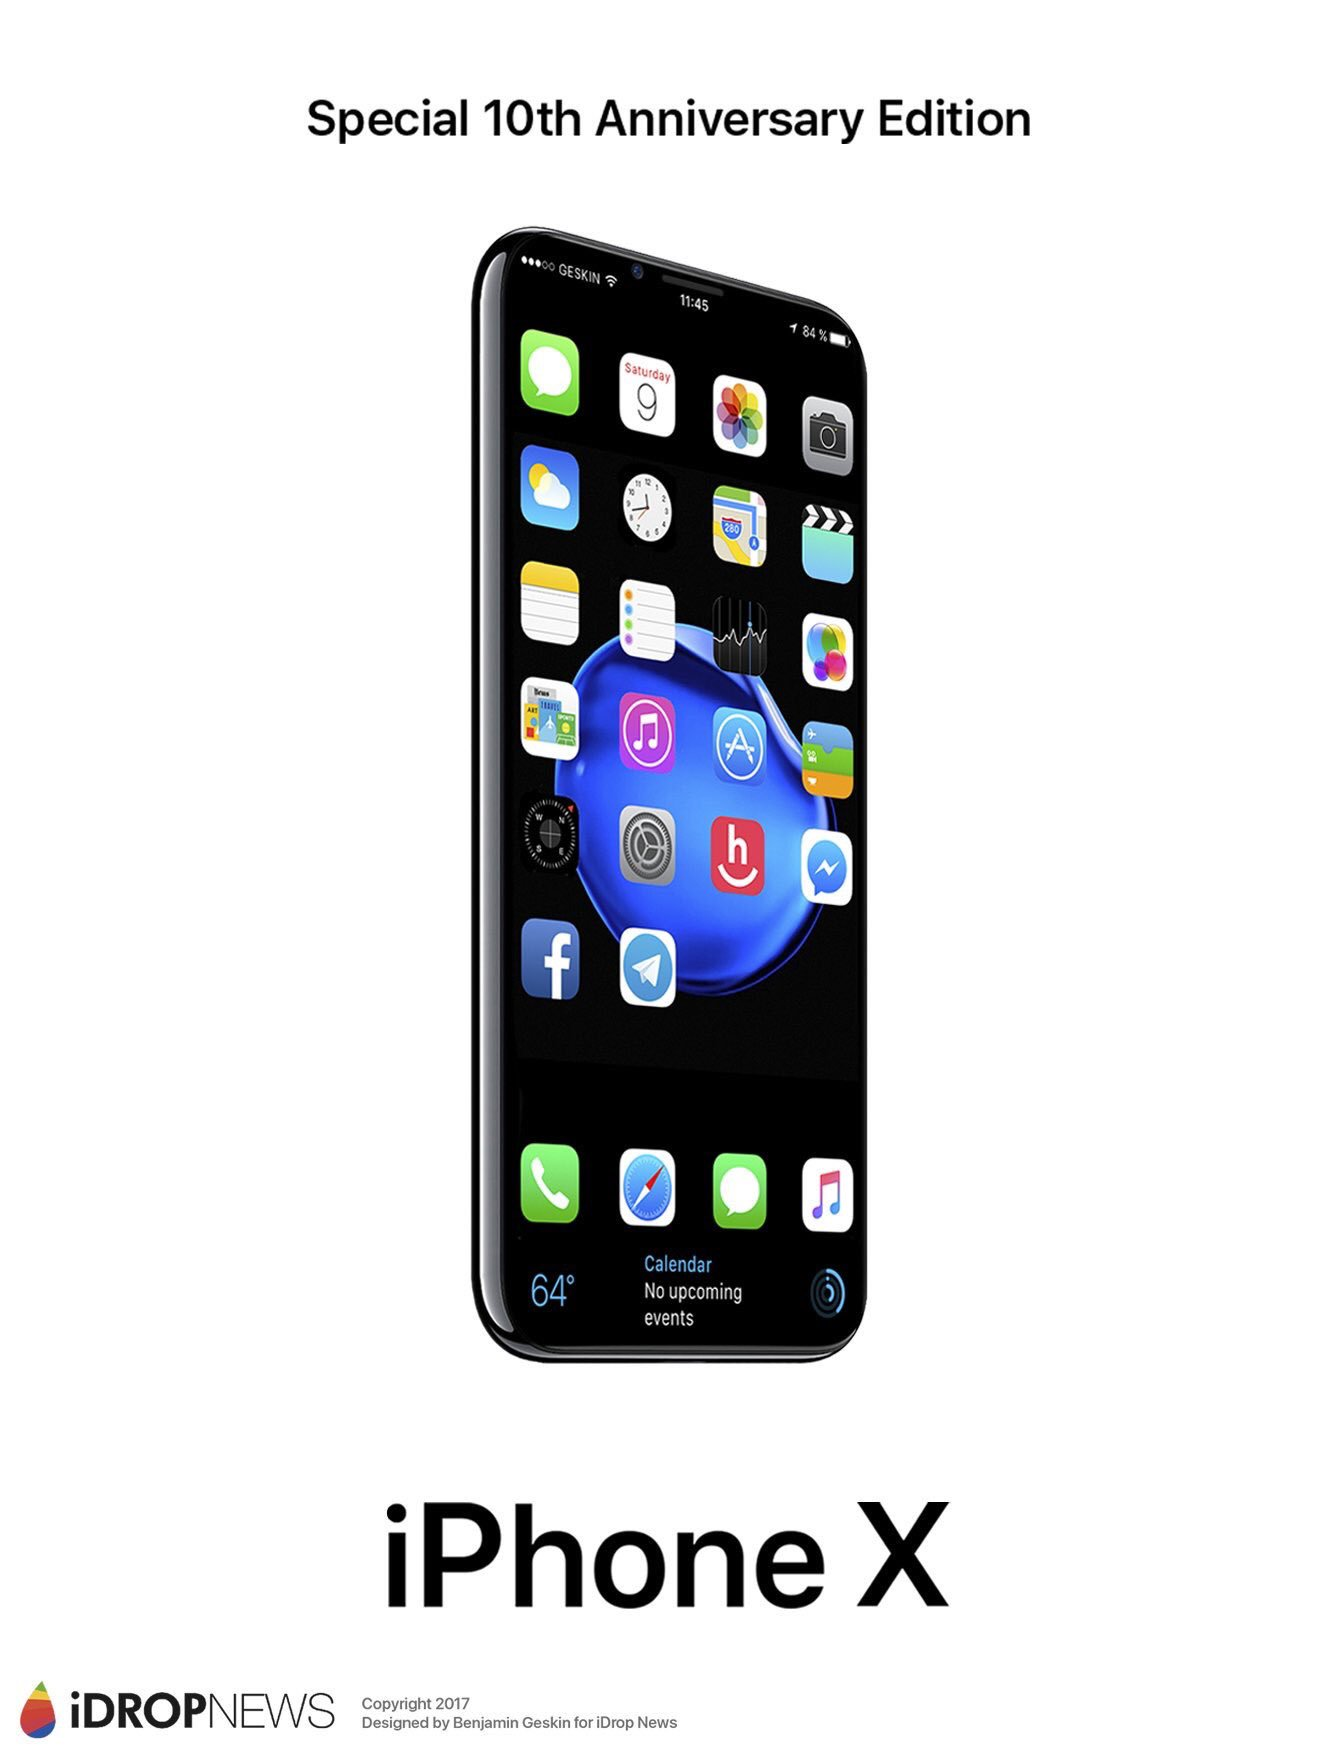smartphone: (471, 226, 869, 1366)
